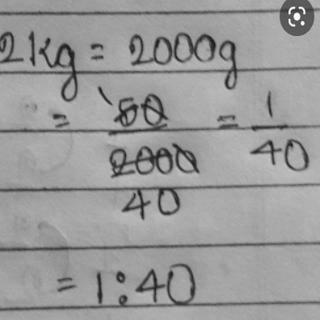.: (117, 290, 130, 306), (114, 269, 126, 285)
0: (167, 261, 195, 303), (283, 136, 310, 172), (156, 185, 183, 217), (194, 31, 218, 63), (153, 33, 174, 68), (173, 30, 195, 63)
1: (265, 89, 275, 120), (97, 269, 103, 305)
2: (126, 33, 156, 67), (1, 29, 26, 67)
4: (248, 136, 282, 171), (134, 266, 165, 303), (122, 187, 151, 222)
